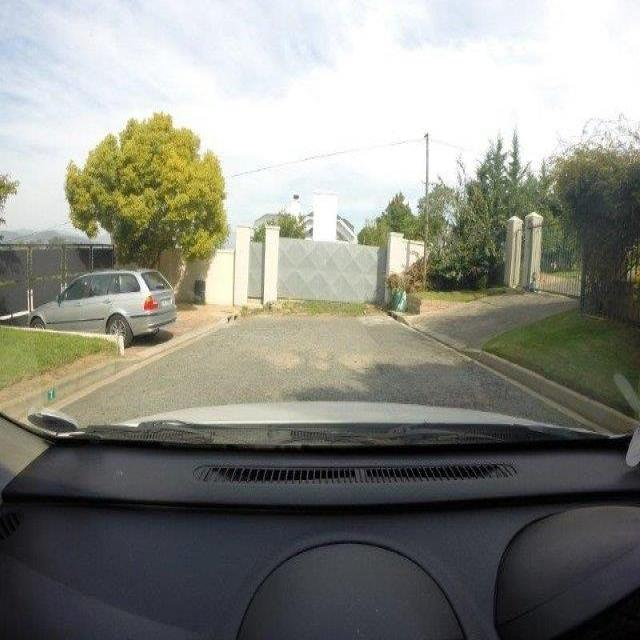lubang: (339, 348, 382, 379), (264, 348, 311, 369)
